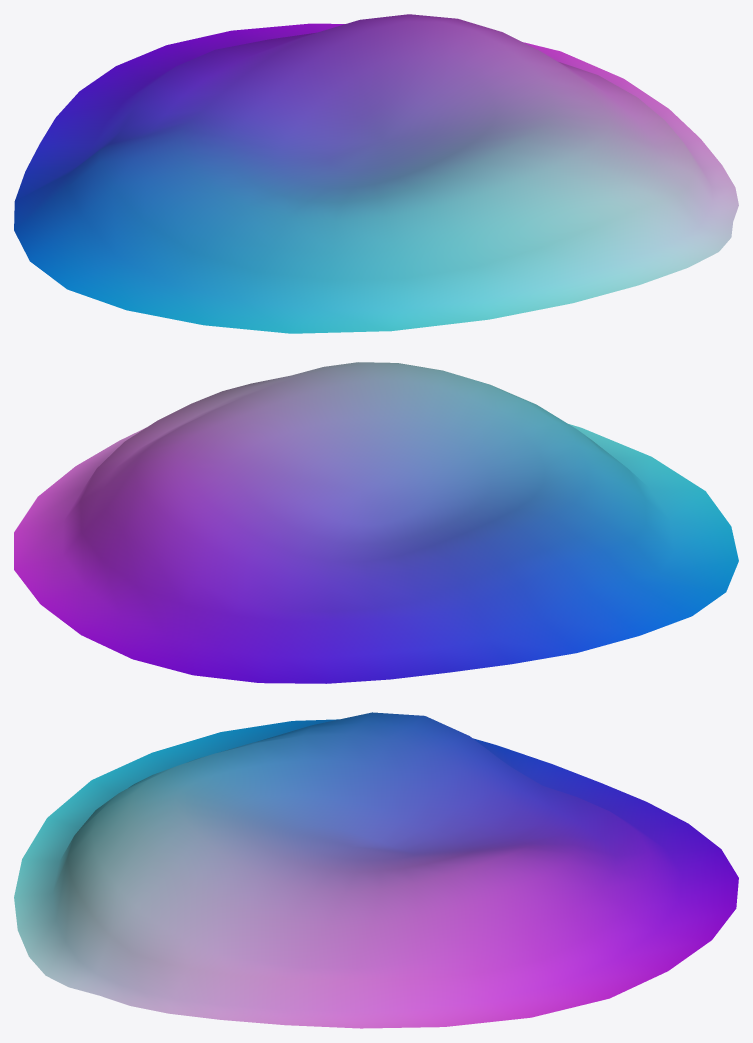
File: mound.FBX
The picture shows the model from 3 angles, top to bottom: view 1: azimuth 30°, elevation 25°; view 2: azimuth 150°, elevation 25°; view 3: azimuth 270°, elevation 25°; orthographic projection. The views are drawn at different scales.
Visible parts, largest first — view 1: Mound; view 2: Mound; view 3: Mound.
Boxes of the visible parts, x1,y1,x2,y2 form: Mound: (14, 14, 738, 333); Mound: (14, 362, 738, 683); Mound: (14, 712, 738, 1028).
Size of the model in its own units: 58.97 by 7.45 by 58.64.
